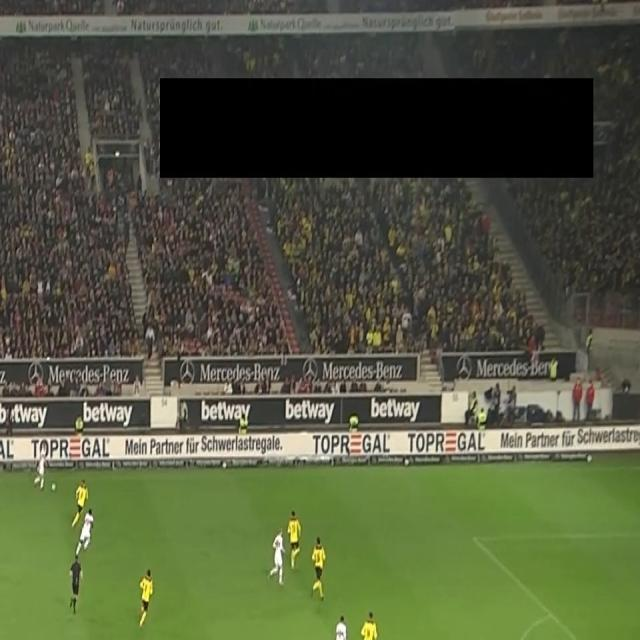ball: (50, 482, 56, 493)
